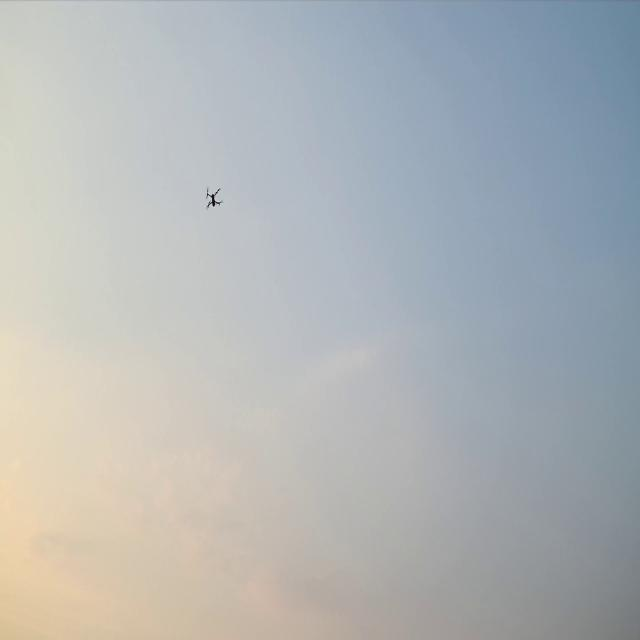UAV: (207, 190, 219, 207)
